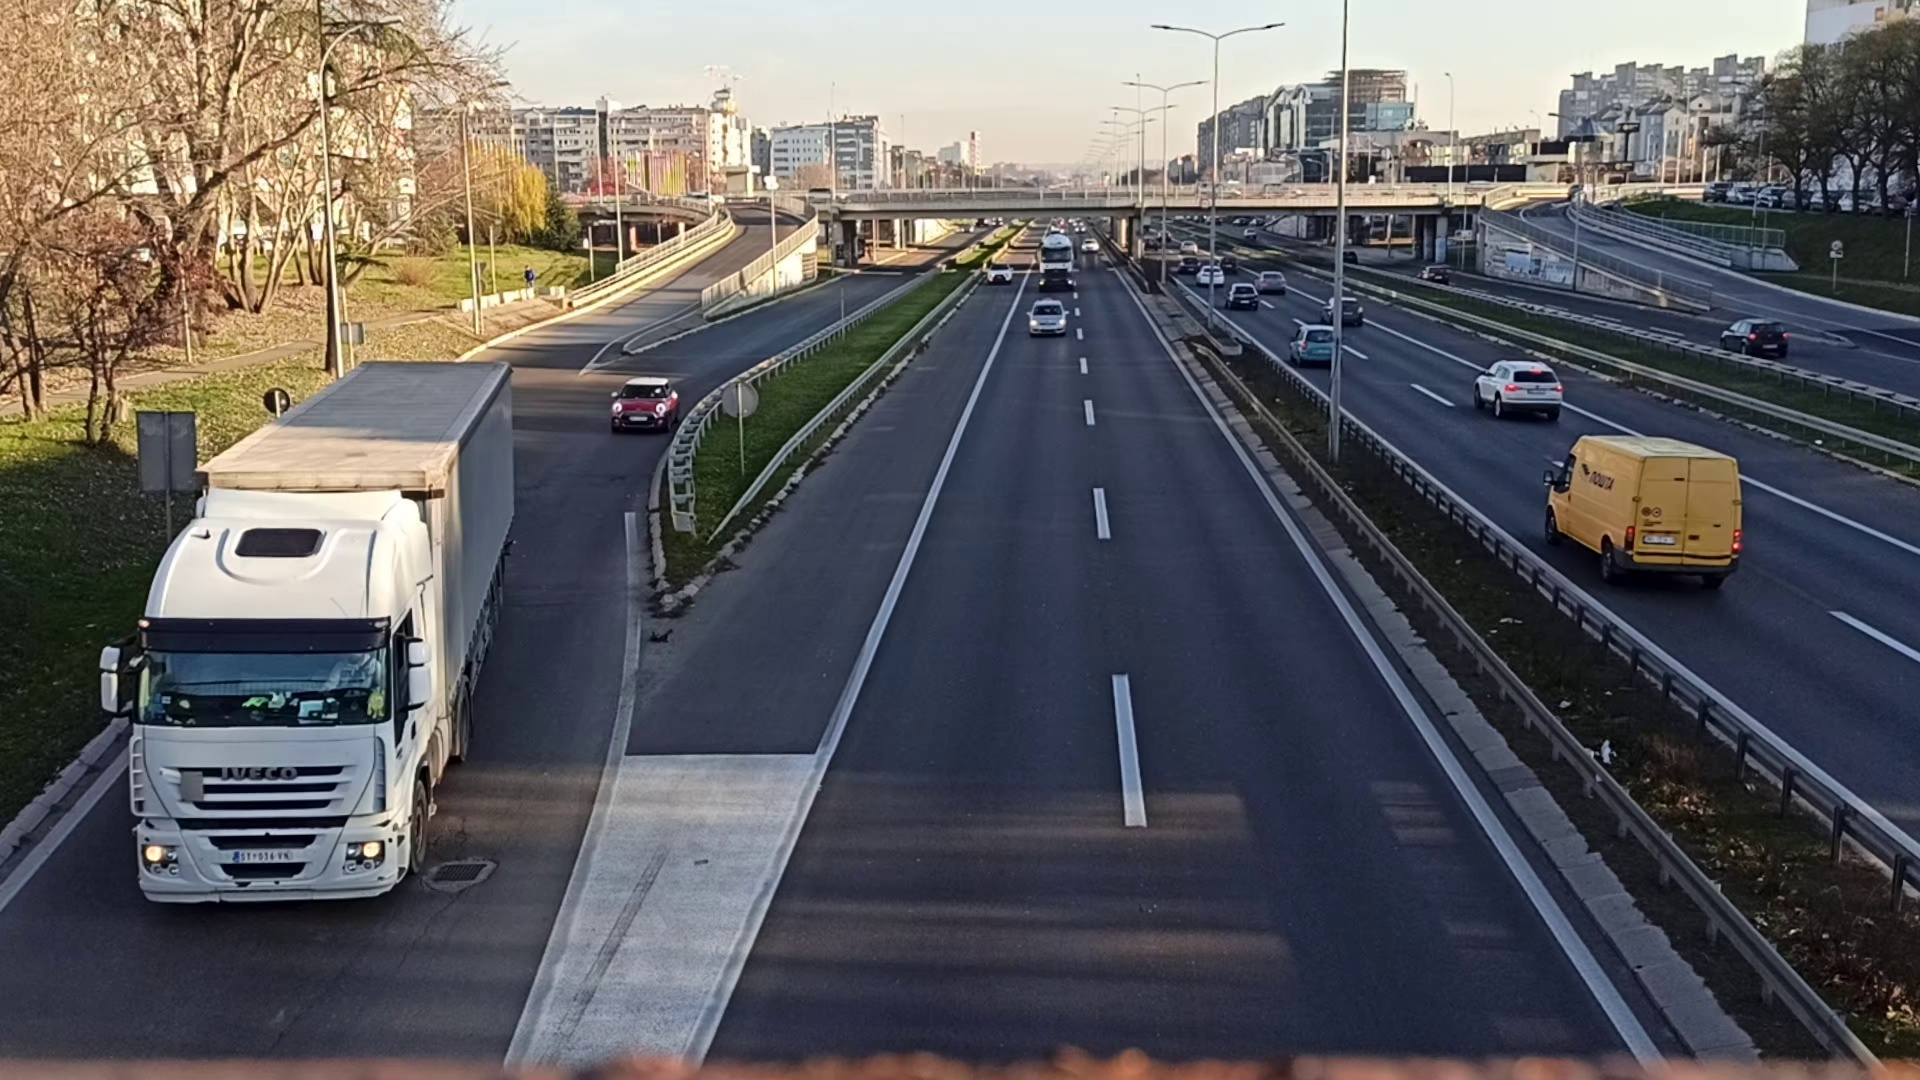car: (1469, 360, 1563, 418), (611, 378, 679, 430), (1288, 323, 1338, 365), (1025, 298, 1065, 335), (1226, 284, 1257, 309)
truck: (125, 342, 516, 914), (1039, 235, 1073, 289)
van: (1535, 431, 1749, 583)
